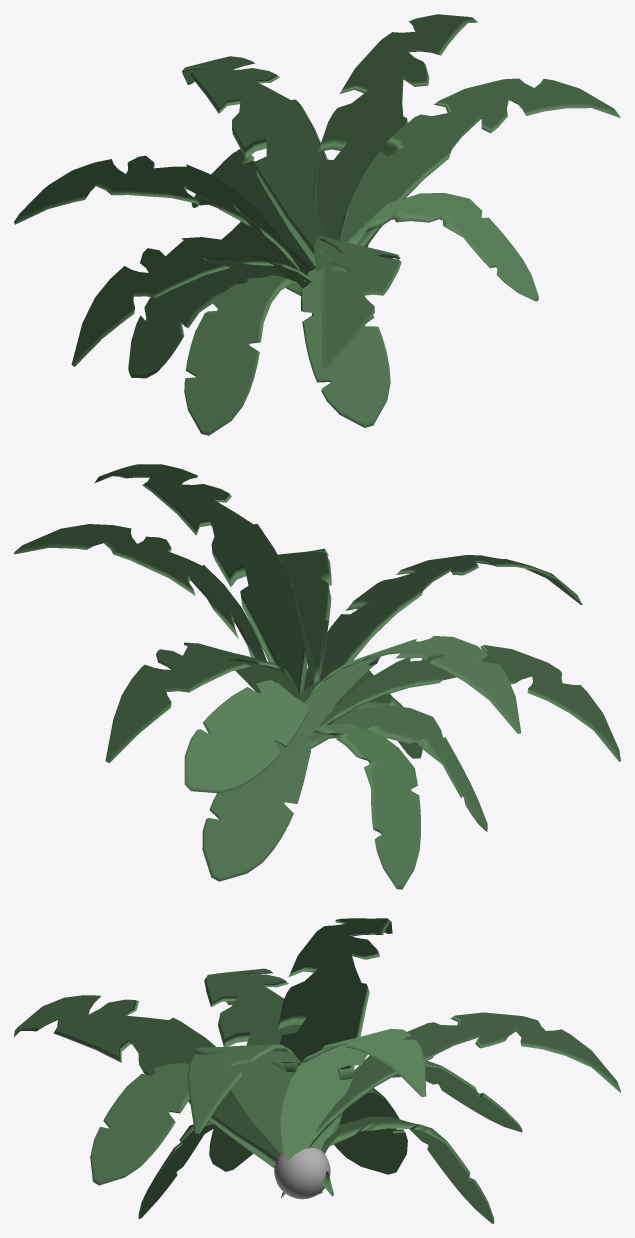
The model's file is fol_bush_palm_uv.fbx.
3 views of the same model, one above another, from view 1: azimuth 30°, elevation 25°; view 2: azimuth 150°, elevation 25°; view 3: azimuth 270°, elevation 25° (orthographic). The views are drawn at different scales.
Parts seen in each view (by area): view 1: fol_bush_palm; view 2: fol_bush_palm; view 3: fol_bush_palm.
Boxes of the visible parts, x1=… form: fol_bush_palm: x1=14, y1=14, x2=620, y2=435; fol_bush_palm: x1=14, y1=464, x2=620, y2=889; fol_bush_palm: x1=14, y1=918, x2=620, y2=1223.
Size of the model in its own units: 21.96 by 10.89 by 21.49.
